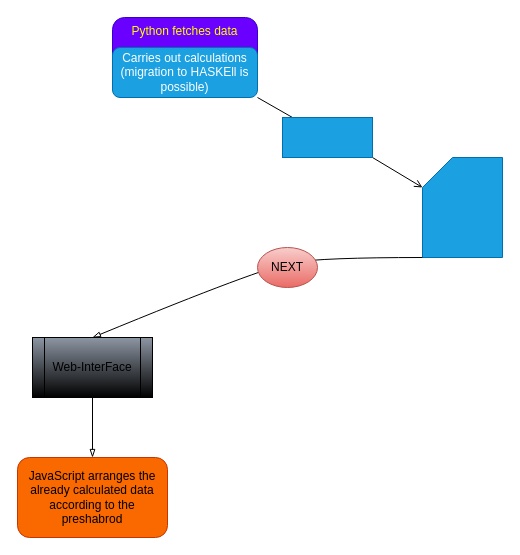
Some shapes in this 520 by 555 pixel diagram are drawn without their labels. The shapes that lost their labels are listed below. From the top down, each one's centre as x and y in pixels, then its label:
At point (327, 137): "Sends them to Postgres".
At point (462, 207): "Postgres".
